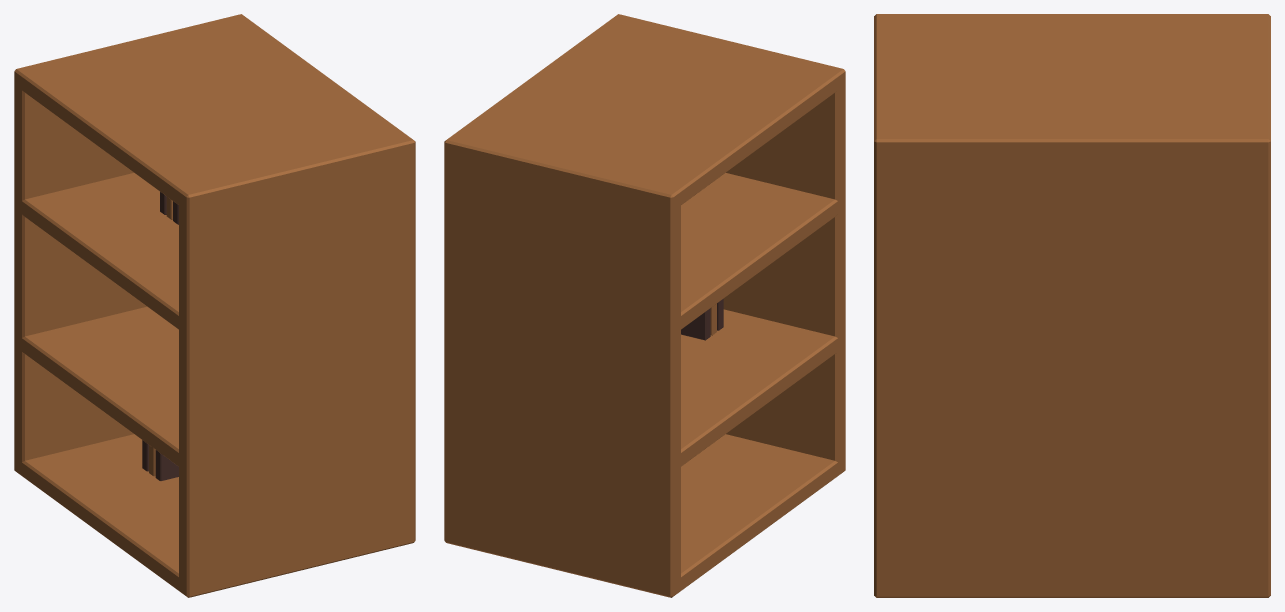
Rendered from etagere_couloir.glb.
3 views of the same model, side by side, from view 1: azimuth 30°, elevation 25°; view 2: azimuth 150°, elevation 25°; view 3: azimuth 270°, elevation 25° (orthographic). The views are drawn at different scales.
Visible parts, largest first — view 1: etagere_couloir; view 2: etagere_couloir; view 3: etagere_couloir.
Boxes of the visible parts, x1,y1,x2,y2 form: etagere_couloir: (14, 14, 415, 597); etagere_couloir: (444, 14, 845, 597); etagere_couloir: (874, 14, 1270, 597).
Size of the model in its own units: 1.1 by 1.85 by 1.45.
Materials: 1 (1 with a texture image).
